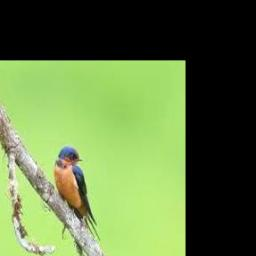Swallow: (54, 146, 100, 243)
